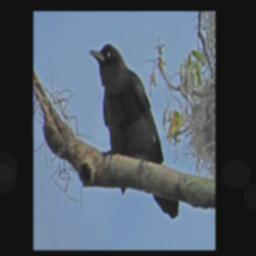Crow: (90, 44, 180, 220)
